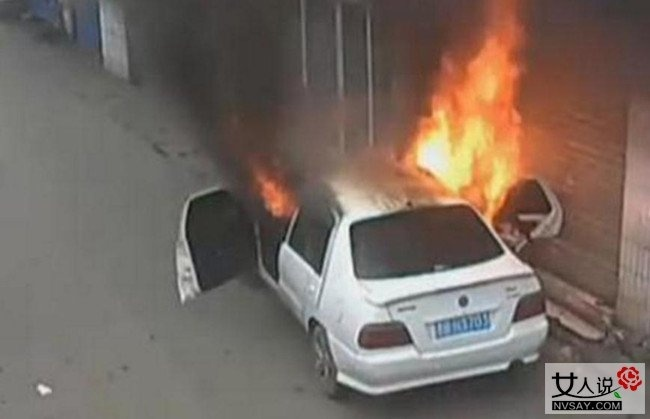fire: (408, 10, 527, 210), (254, 166, 299, 218)
